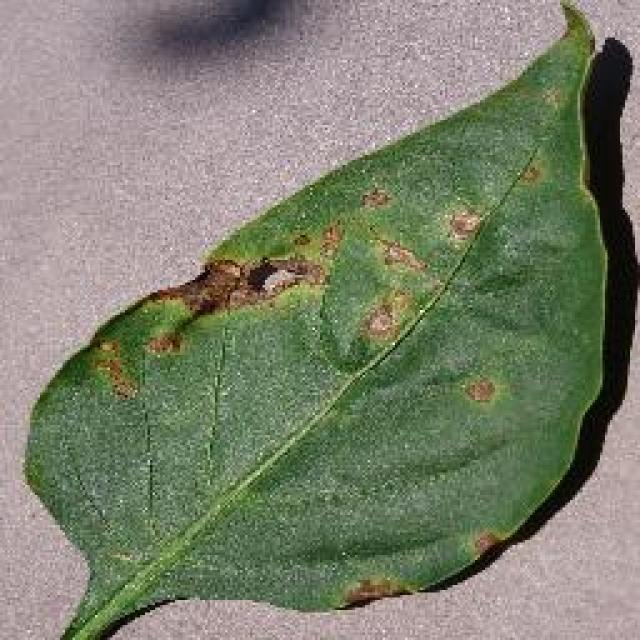Chilli_Bacterial_Spot: (83, 180, 495, 408), (282, 180, 488, 372), (243, 252, 325, 302), (355, 282, 417, 348), (85, 335, 143, 405), (332, 572, 418, 612), (365, 230, 430, 280), (440, 202, 485, 248), (312, 218, 348, 262), (140, 325, 185, 360), (458, 370, 498, 408), (355, 180, 395, 215), (468, 525, 502, 563), (513, 155, 545, 190)
